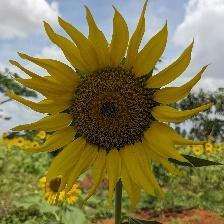sunflower: (18, 18, 211, 192)
